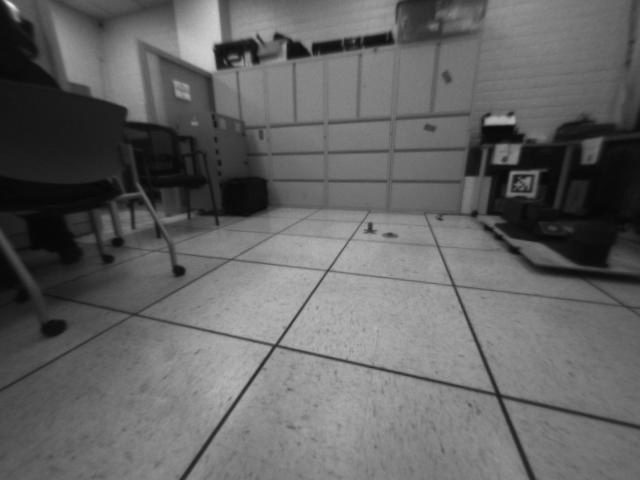X: (362, 221, 379, 236)
